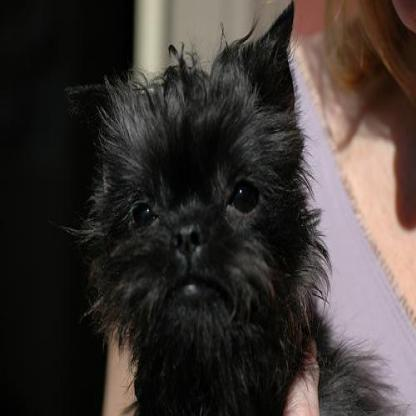affenpinscher: (46, 4, 402, 414)
